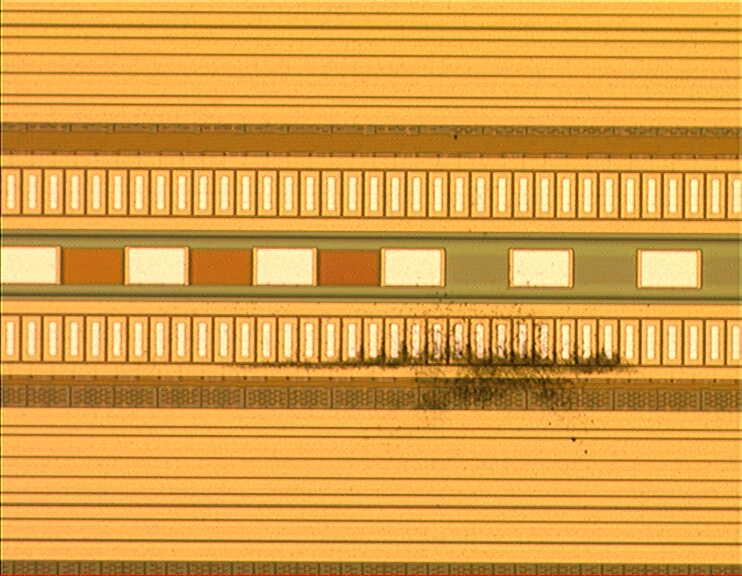PO CONTAMINATION: (193, 291, 640, 461)
